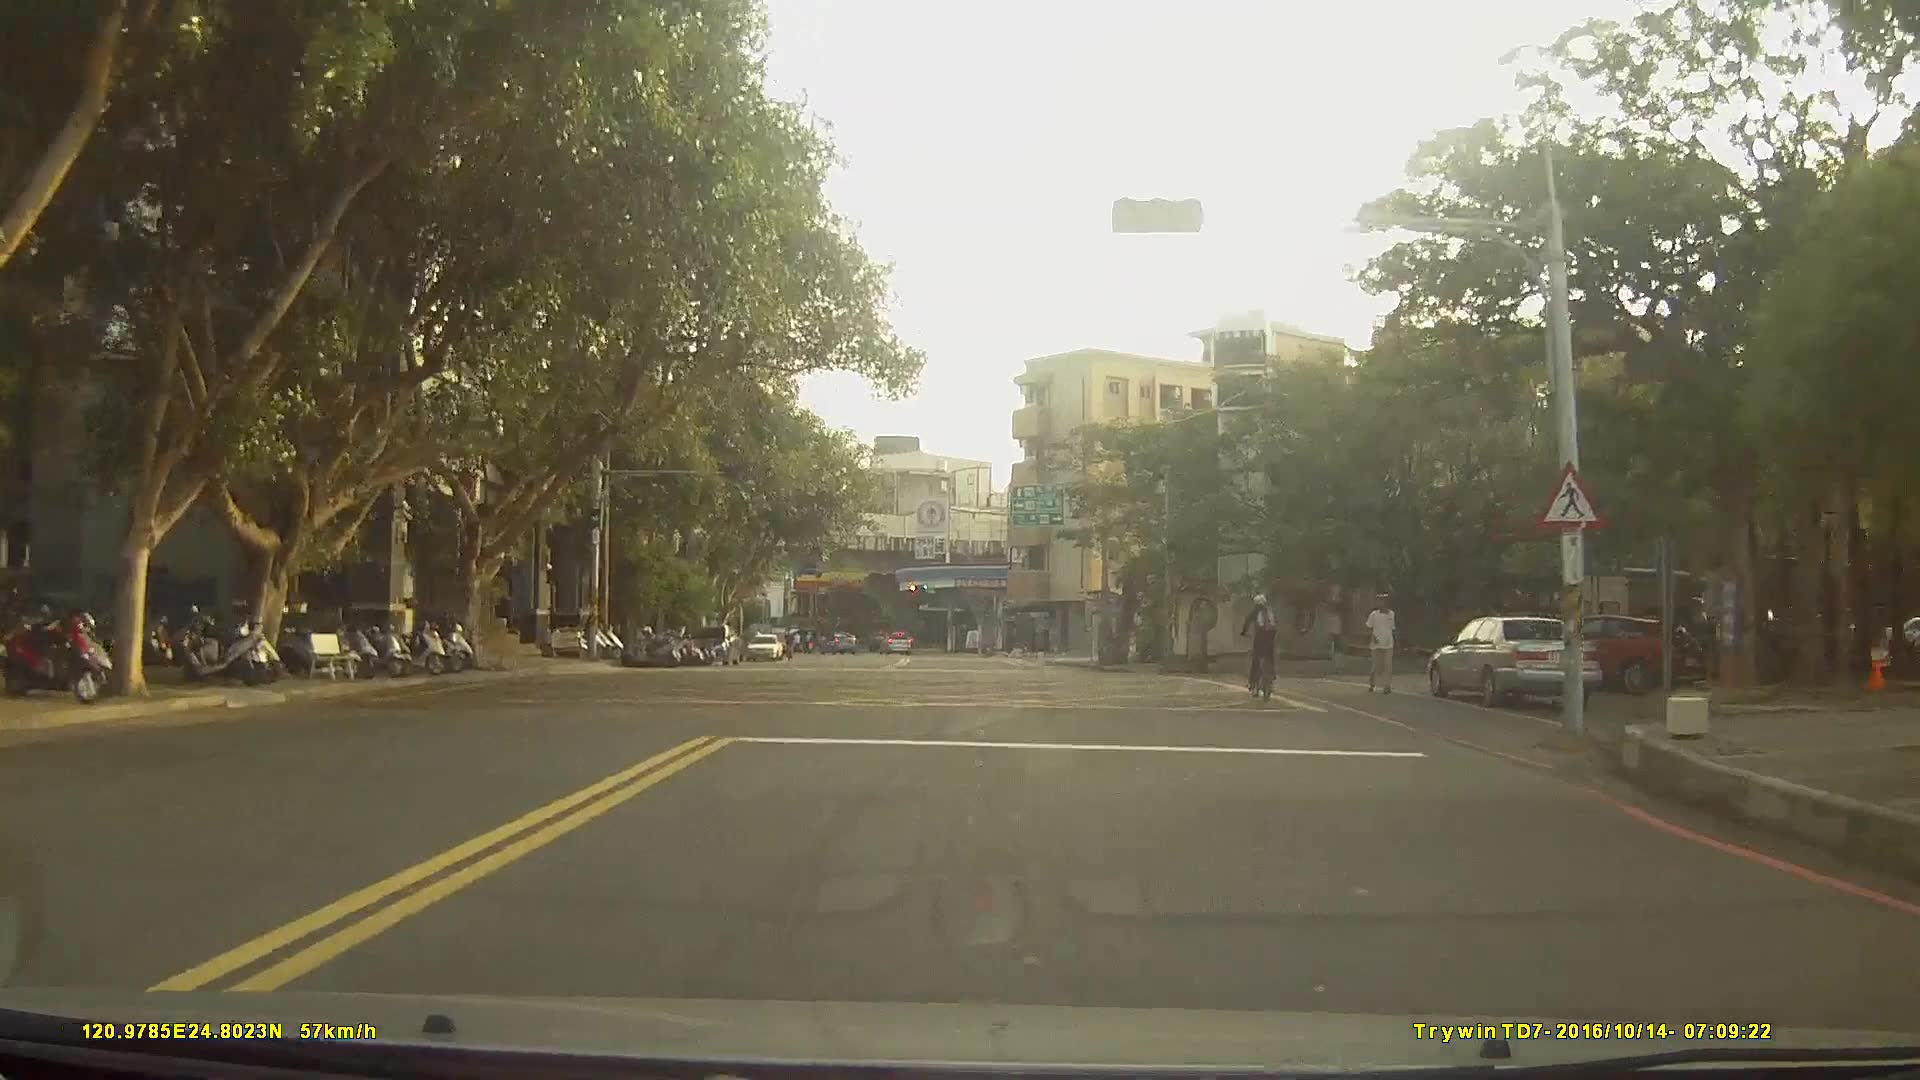pedestrian: (1364, 590, 1407, 700), (493, 596, 513, 647)
rider: (1242, 595, 1288, 701)
vehicle: (1427, 615, 1602, 709), (1535, 613, 1674, 694), (685, 621, 739, 667), (745, 633, 782, 665), (881, 627, 914, 652)
